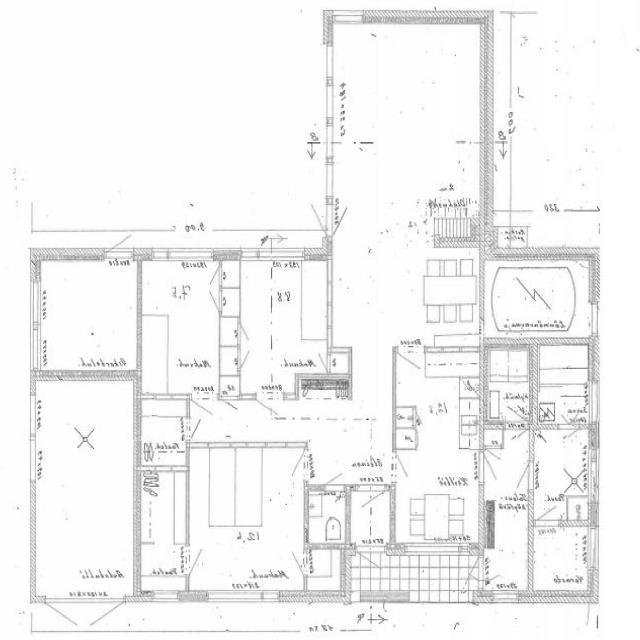door: (299, 204, 333, 237), (357, 546, 385, 586), (326, 204, 359, 237), (106, 217, 132, 258), (256, 395, 283, 434), (357, 484, 384, 522), (397, 348, 424, 384), (191, 395, 217, 431), (453, 558, 484, 588), (278, 450, 308, 480), (480, 452, 509, 482), (392, 452, 421, 482), (505, 392, 528, 429), (592, 304, 621, 333), (505, 420, 528, 456), (186, 546, 213, 575), (536, 492, 559, 526), (506, 463, 534, 490), (323, 460, 344, 491), (558, 424, 579, 454), (284, 552, 307, 576), (186, 418, 208, 441), (222, 395, 238, 419), (238, 324, 257, 343), (238, 349, 256, 369), (204, 291, 222, 310), (204, 266, 222, 285), (312, 354, 330, 372), (486, 446, 501, 467), (413, 410, 429, 425)
